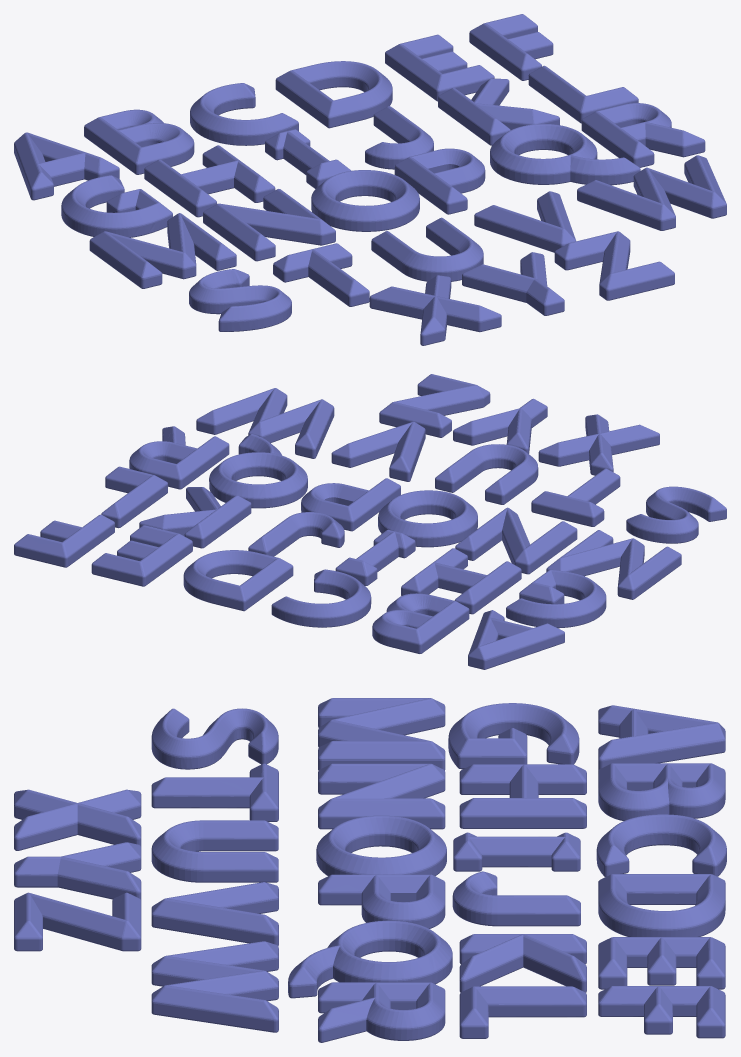
Rendered from ABCDEFGHIJKLMNOPQRSTUVWXYZ.glb.
3 renders of one model, top to bottom at view 1: azimuth 30°, elevation 25°; view 2: azimuth 150°, elevation 25°; view 3: azimuth 270°, elevation 25°, orthographic. The views are drawn at different scales.
Bounding box in the file's own units: 0.118 × 0.00424 × 0.109.
